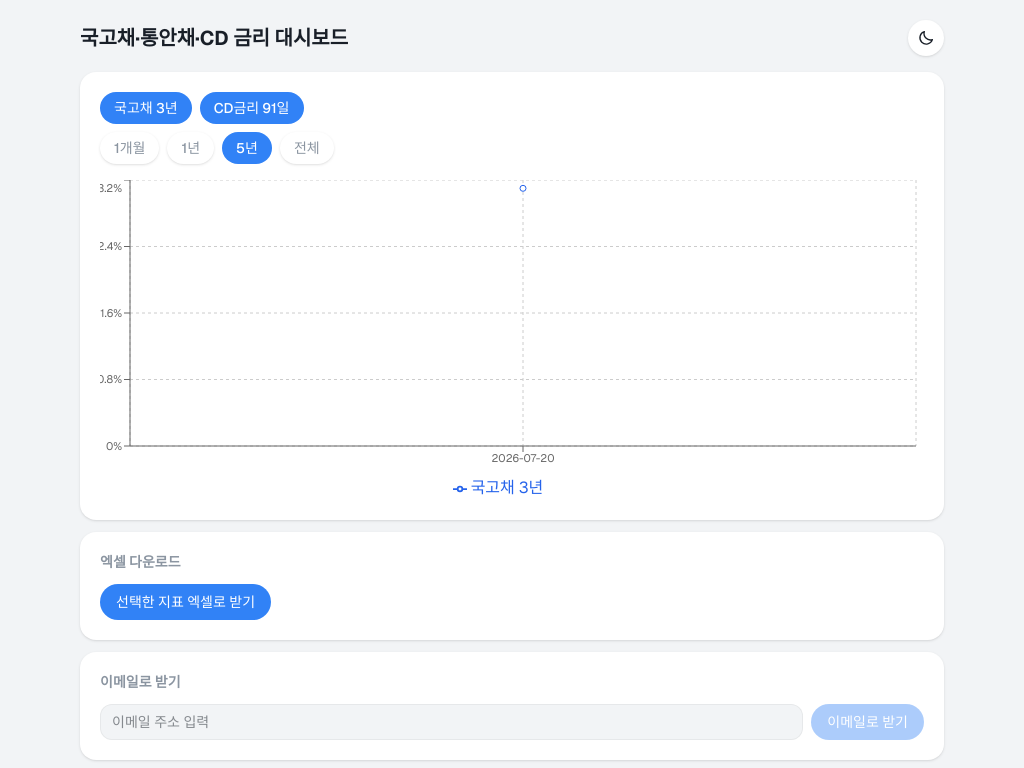
Scenario: Dashboard refetch error handling › clears the previous error and updates rows on a subsequent successful fetch
Click the checkbox labelled "CD금리 91일" at (252, 108), box [200, 92, 304, 124]
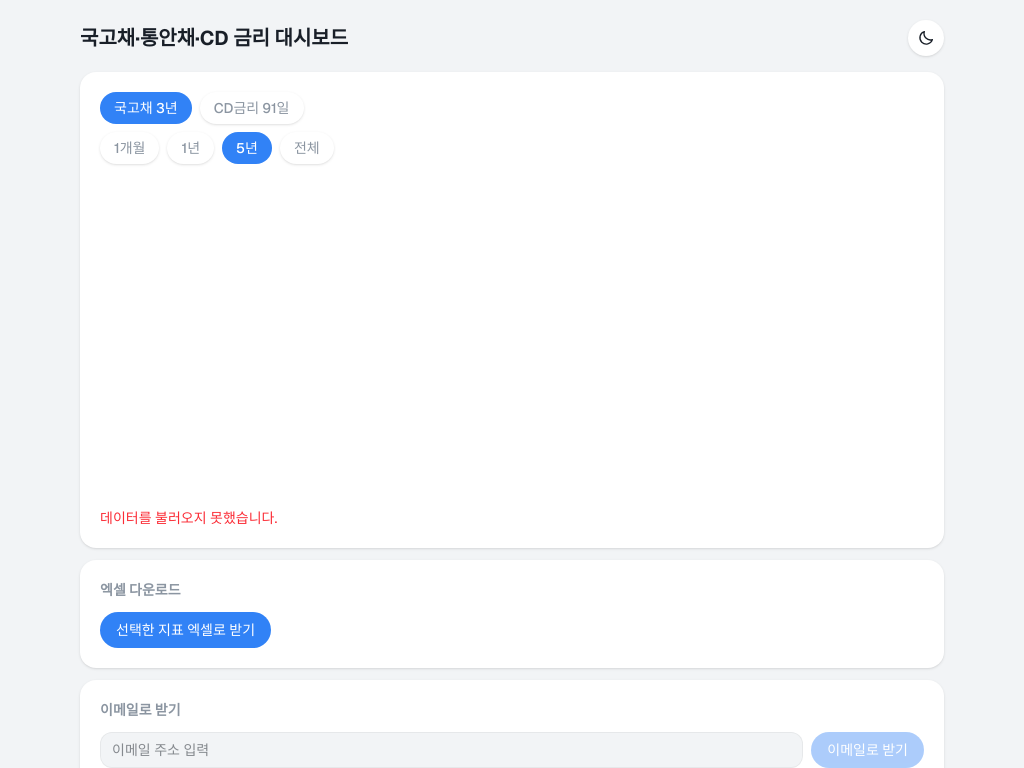
Now the text "데이터를 불러오지 못했습니다." is shown, box [100, 509, 277, 527]
Click the checkbox labelled "CD금리 91일" at (252, 108), box [200, 92, 304, 124]
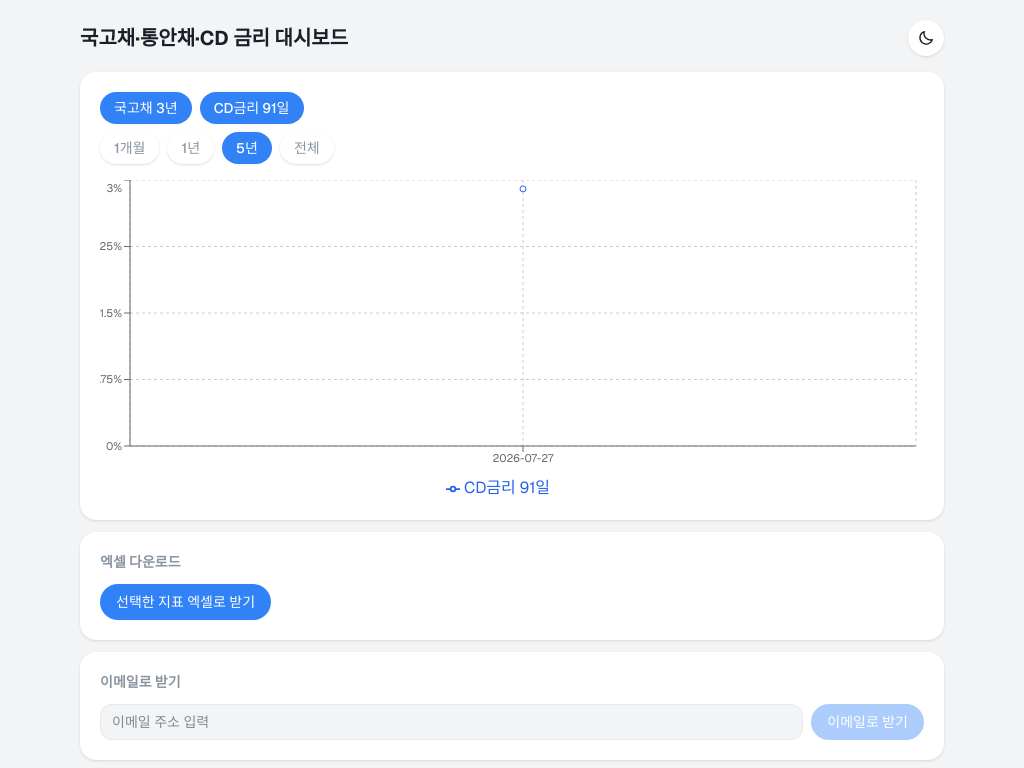
Now the text "데이터를 불러오지 못했습니다." is gone
